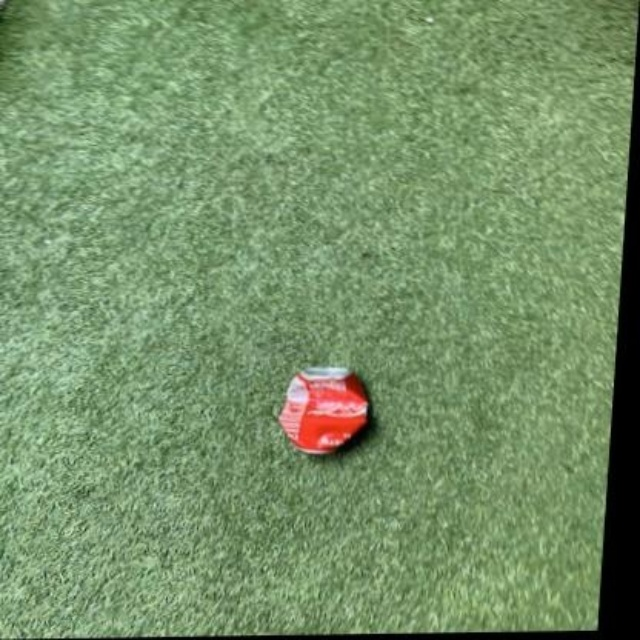trash: (278, 368, 368, 452)
